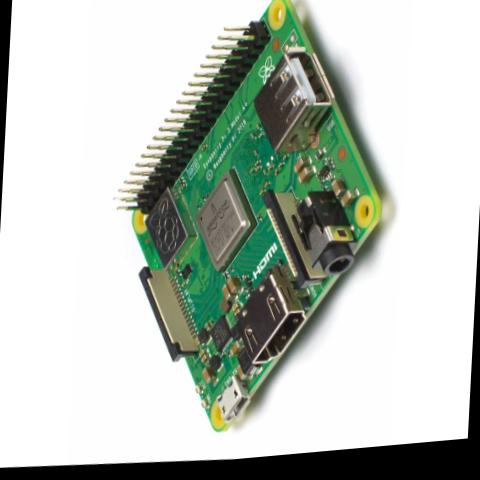Raspberry-Pi-3-Model-A-: (92, 0, 398, 460)
